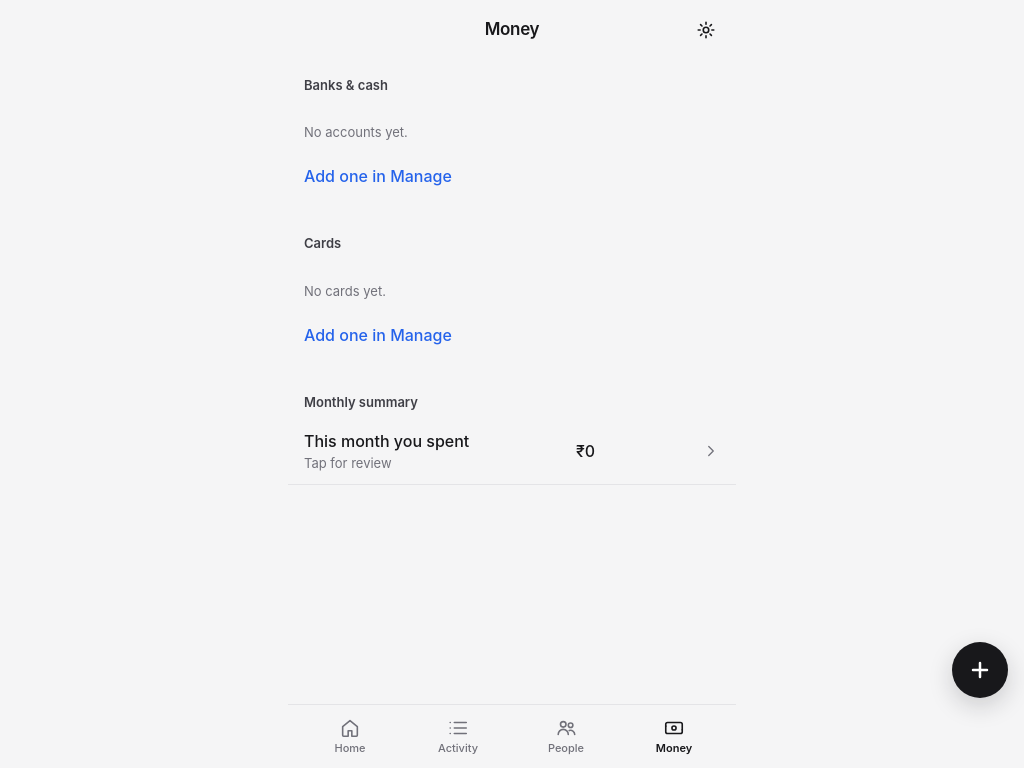
Test: UX Stage B navigation and IA › Money uses a gear control and FAB keeps a centered plus icon
The image size is (1024, 768).
expect the heading "Money" is shown: met, box 485,19 -> 539,39
expect the 1st icon is shown: met, box 695,19 -> 717,41
Click the button named "Manage money" at coordinates (706, 30), box 684,8 -> 728,52
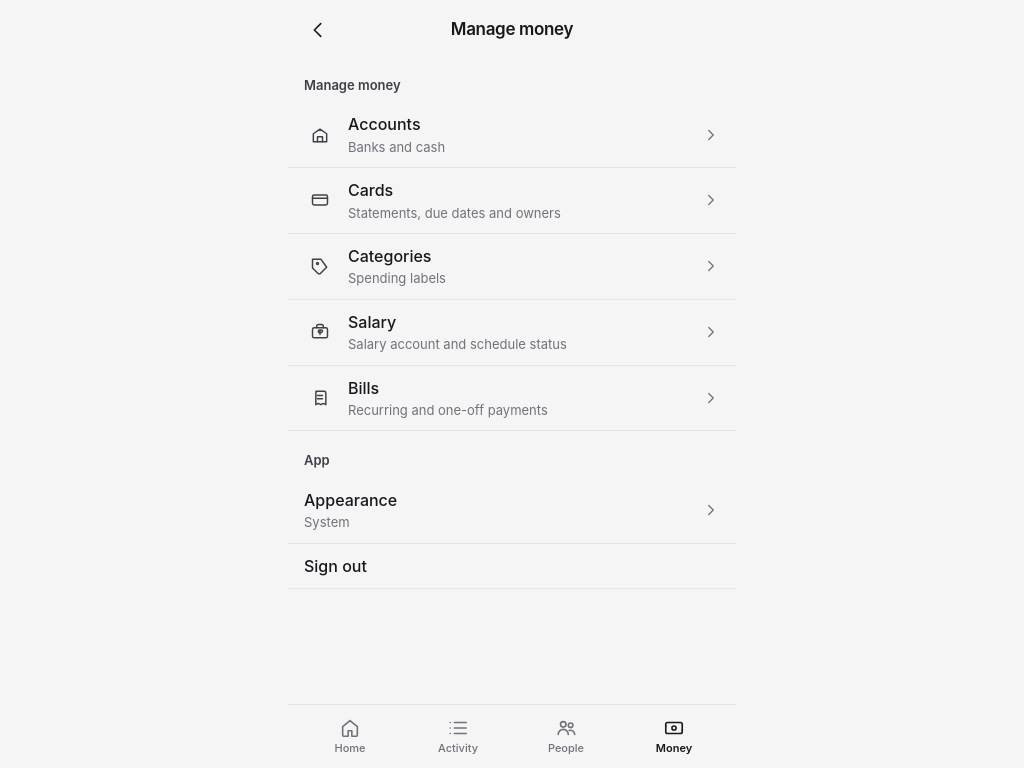
expect the heading "Manage money" is shown: met, box 451,19 -> 573,39
